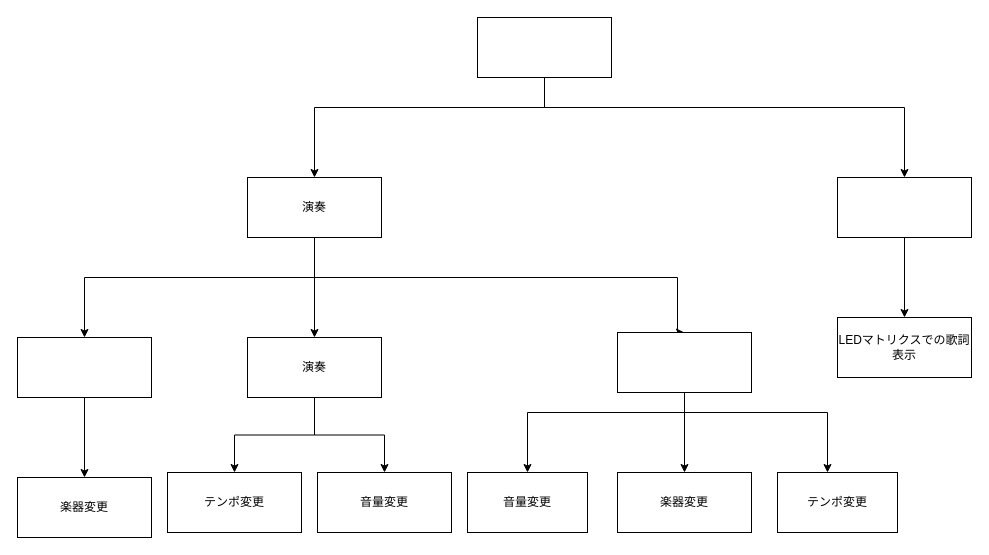
The diagram is 989 pixels wide and 555 high, and some of its shapes have lost their labels. The shapes that lost their labels are listed below. From the top down, each one's box as (x1, y1, x2, y2) in pixels, then its label:
(476, 16, 612, 78): LED同期演奏システム
(836, 176, 972, 238): 視覚情報
(16, 336, 152, 398): 演奏前制御
(616, 332, 752, 392): webサイト
